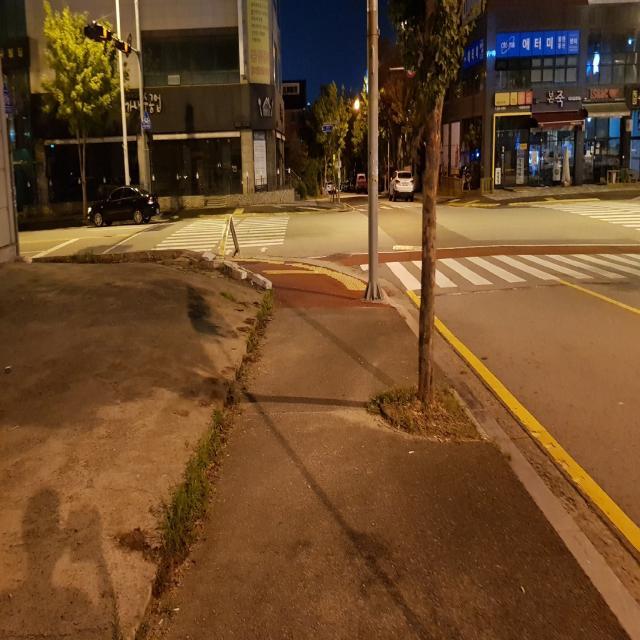횡단보도: (374, 245, 640, 289), (150, 215, 290, 256)
